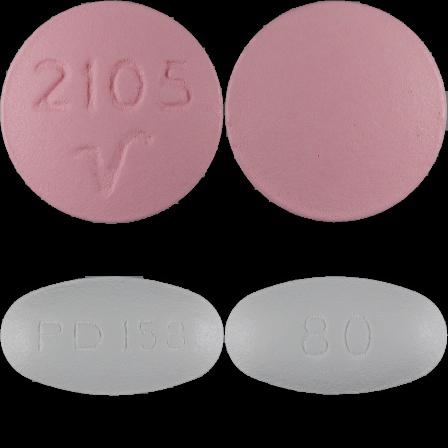63629-3362: (0, 0, 224, 224)
